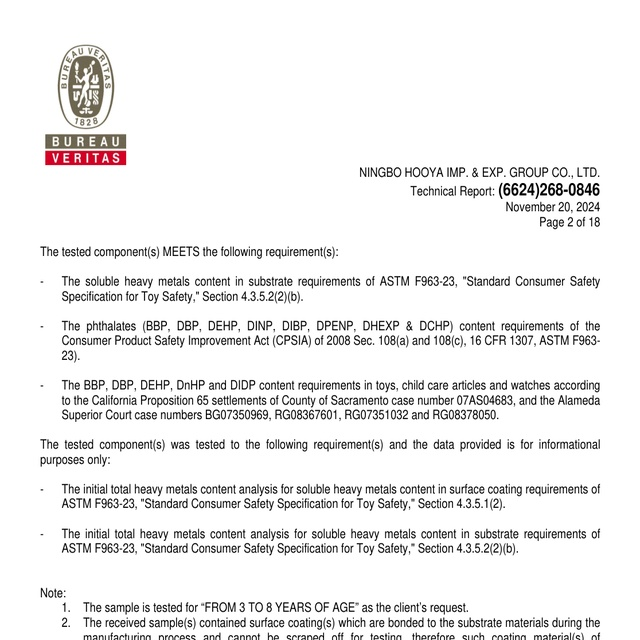bureau_veritas: (42, 42, 129, 167)
